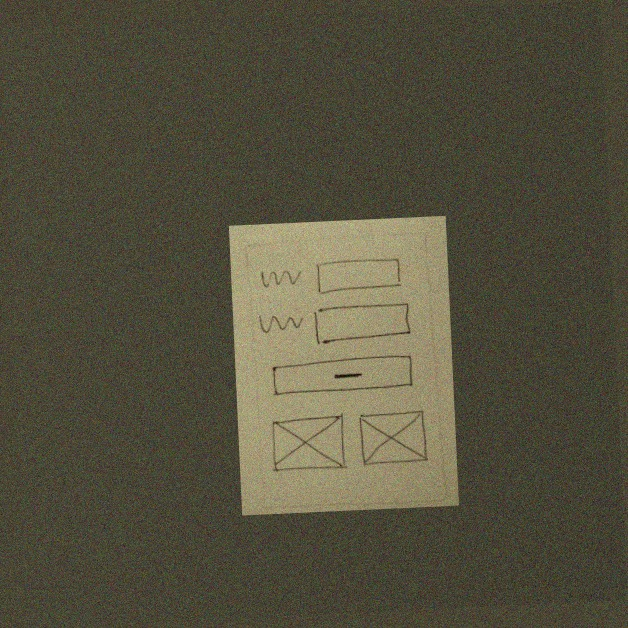button: (268, 352, 420, 398)
image: (267, 412, 355, 476), (355, 406, 435, 471)
text: (256, 311, 308, 337), (258, 265, 306, 291)
text_input: (310, 300, 416, 347), (310, 254, 408, 296)
